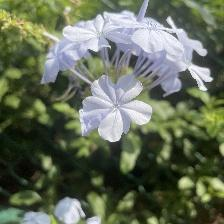chitrak: (81, 74, 147, 139)
